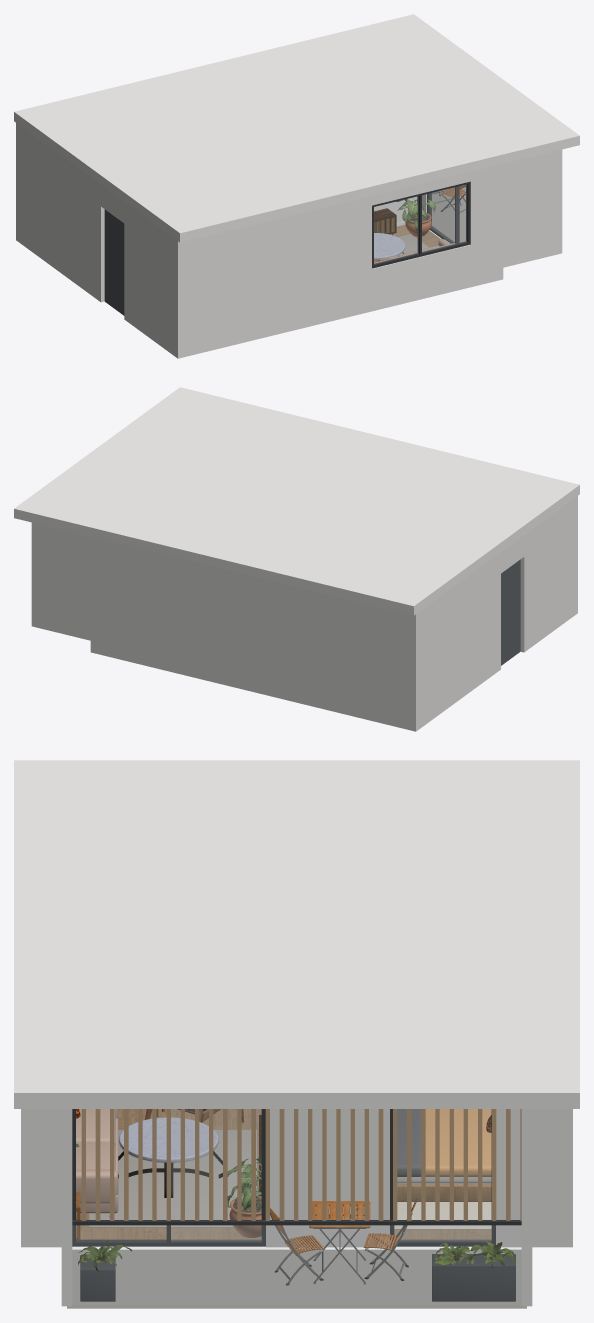
File: capeyron.glb
3 renders of one model, top to bottom at view 1: azimuth 30°, elevation 25°; view 2: azimuth 150°, elevation 25°; view 3: azimuth 270°, elevation 25°, orthographic. The views are drawn at different scales.
Parts seen in each view (by area): view 1: g_Plafond, g_Enduit blanc, g_Verre, g_Porte palière, g_Alu anthracite, g_Dalles balcon, g_coffee_table_round_01, g_modern_wooden_cabinet, g_potted_plant_02_leaves; view 2: g_Plafond, g_Enduit blanc, g_Porte palière; view 3: g_Plafond, g_Verre, g_Enduit blanc, g_Dalles balcon, g_Lames bois balcon, g_Alu anthracite, g_Tapis laine, g_Parquet chene clair, g_Couette ocre, g_coffee_table_round_01, g_Tissu canape, g_outdoor_table_chair_set_01_chair (+7 smaller).
Boxes of the visible parts, x1,y1,x2,y2 form: g_Plafond: (14,14,579,242); g_Enduit blanc: (16,123,562,358); g_Verre: (374,185,466,263); g_Porte palière: (104,209,124,315); g_Alu anthracite: (372,182,470,268); g_Dalles balcon: (432,187,465,242); g_coffee_table_round_01: (374,233,405,259); g_modern_wooden_cabinet: (374,208,396,235); g_potted_plant_02_leaves: (396,198,435,230); g_Plafond: (14,387,579,615); g_Enduit blanc: (31,496,577,731); g_Porte palière: (501,559,520,665); g_Plafond: (14,760,579,1108); g_Verre: (72,1109,521,1304); g_Enduit blanc: (21,1109,572,1306); g_Dalles balcon: (67,1249,526,1308); g_Lames bois balcon: (81,1109,521,1220); g_Alu anthracite: (72,1109,521,1301); g_Tapis laine: (89,1129,257,1227); g_Parquet chene clair: (80,1109,491,1239); g_Couette ocre: (420,1109,491,1176); g_coffee_table_round_01: (118,1117,222,1197); g_Tissu canape: (76,1109,118,1213); g_outdoor_table_chair_set_01_chair: (270,1198,417,1285).
Bounding box in the file's own units: 8.9 × 2.73 × 6.4.
Materials: 54 (23 with a texture image).
